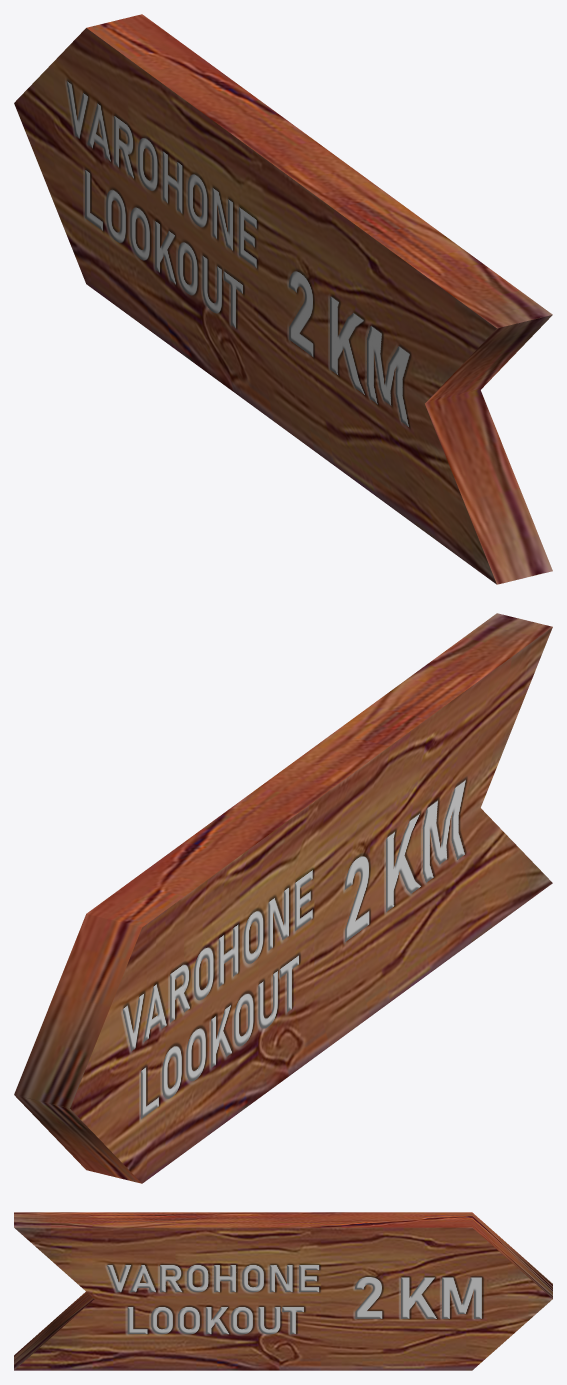
File: Arrow.fbx
The picture shows the model from 3 angles, top to bottom: view 1: azimuth 30°, elevation 25°; view 2: azimuth 150°, elevation 25°; view 3: azimuth 270°, elevation 25°; orthographic projection. The views are drawn at different scales.
Parts seen in each view (by area): view 1: pCube1; view 2: pCube1; view 3: pCube1.
Boxes of the visible parts, x1,y1,x2,y2 form: pCube1: (14, 14, 552, 584); pCube1: (14, 613, 552, 1183); pCube1: (14, 1212, 552, 1370).
Bounding box in the file's own units: 0.2715 × 1.19 × 4.06.
Materials: 1 (1 with a texture image).
